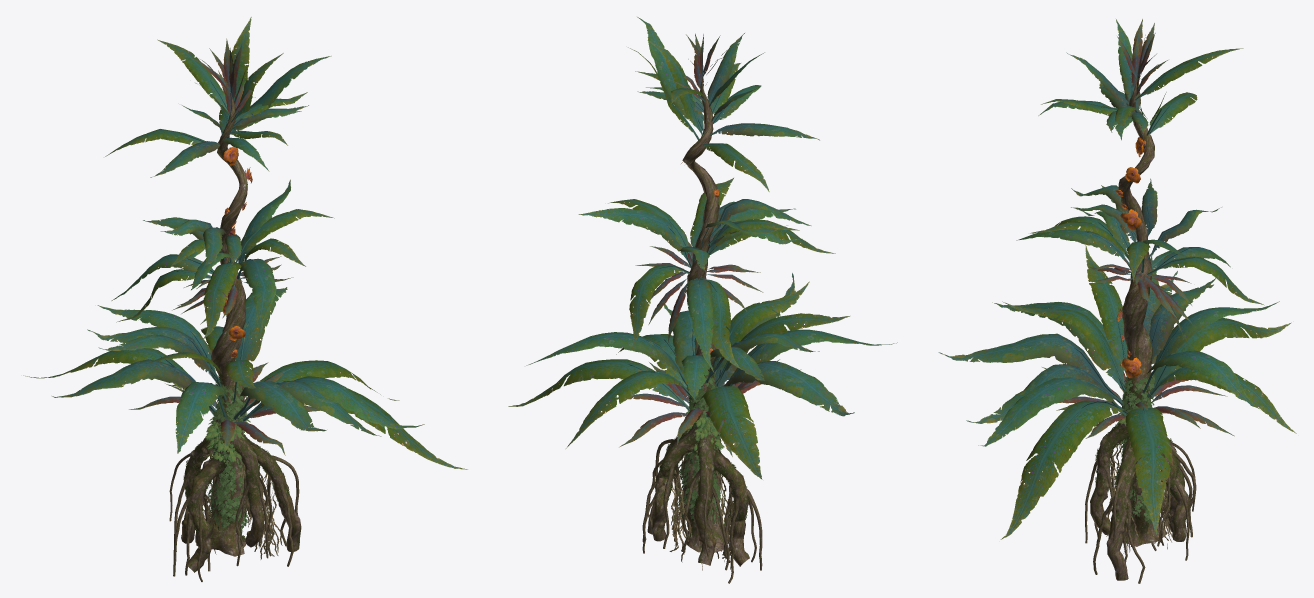
File: Tree - Alien Tree 01 1-aTyyGhcU.glb
3 renders of one model, left to right at view 1: azimuth 30°, elevation 25°; view 2: azimuth 150°, elevation 25°; view 3: azimuth 270°, elevation 25°, orthographic.
Visible parts, largest first — view 1: Tree_01(Clone), Tree_01_Plants(Clone); view 2: Tree_01(Clone), Tree_01_Plants(Clone); view 3: Tree_01(Clone), Tree_01_Plants(Clone).
Boxes of the visible parts, x1,y1,x2,y2 form: Tree_01(Clone): (23,17,467,581); Tree_01_Plants(Clone): (183,359,289,542); Tree_01(Clone): (508,17,897,583); Tree_01_Plants(Clone): (659,357,748,537); Tree_01(Clone): (938,19,1296,583); Tree_01_Plants(Clone): (1095,347,1184,538).
Size of the model in its own units: 17.34 by 24.45 by 14.96.
2 materials, 2 textured.
